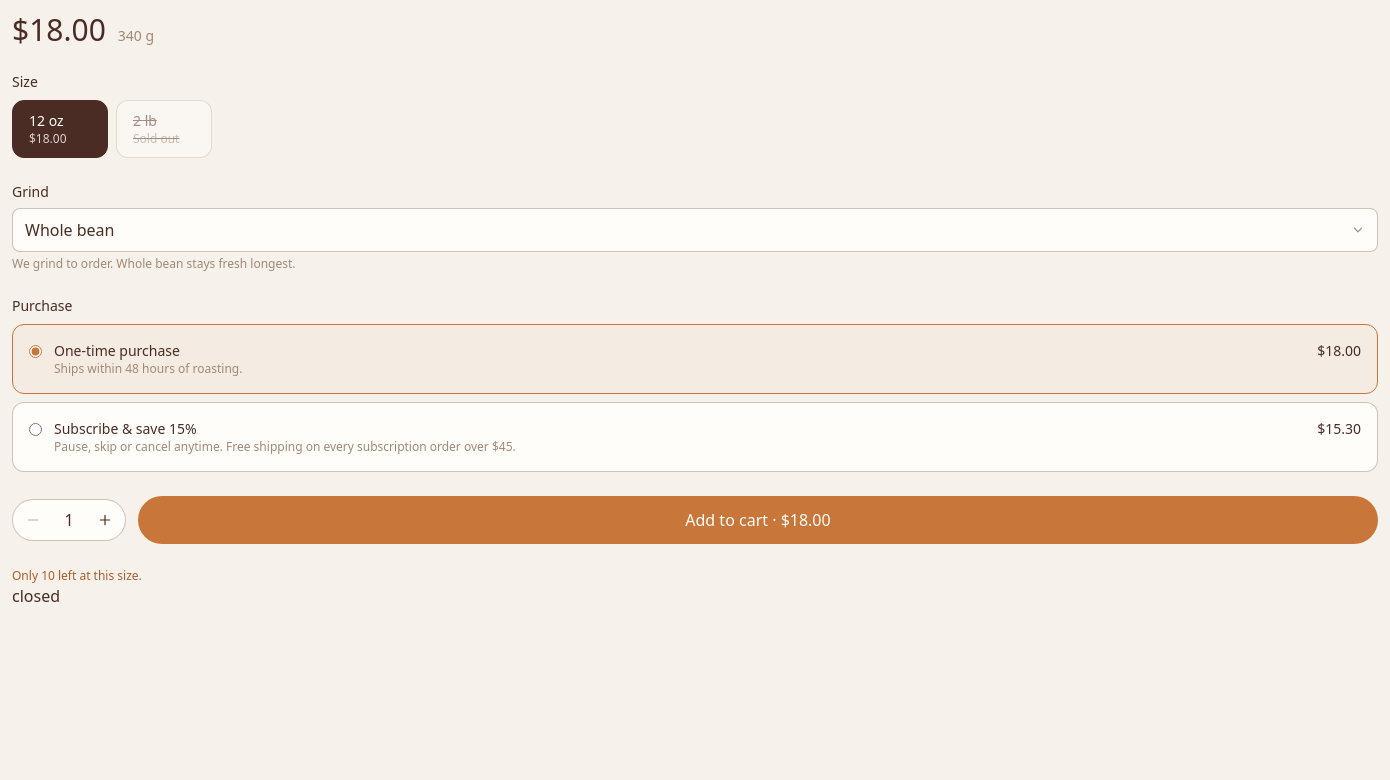
Scenario: AddToCartForm › submits the selected variant, tracks add_to_cart, and opens the drawer
Expected: the text with test id "drawer-state" reads "closed", [12,585,60,607]
Click the button "Add to cart · $18.00" at (758, 520), box [138,496,1378,544]
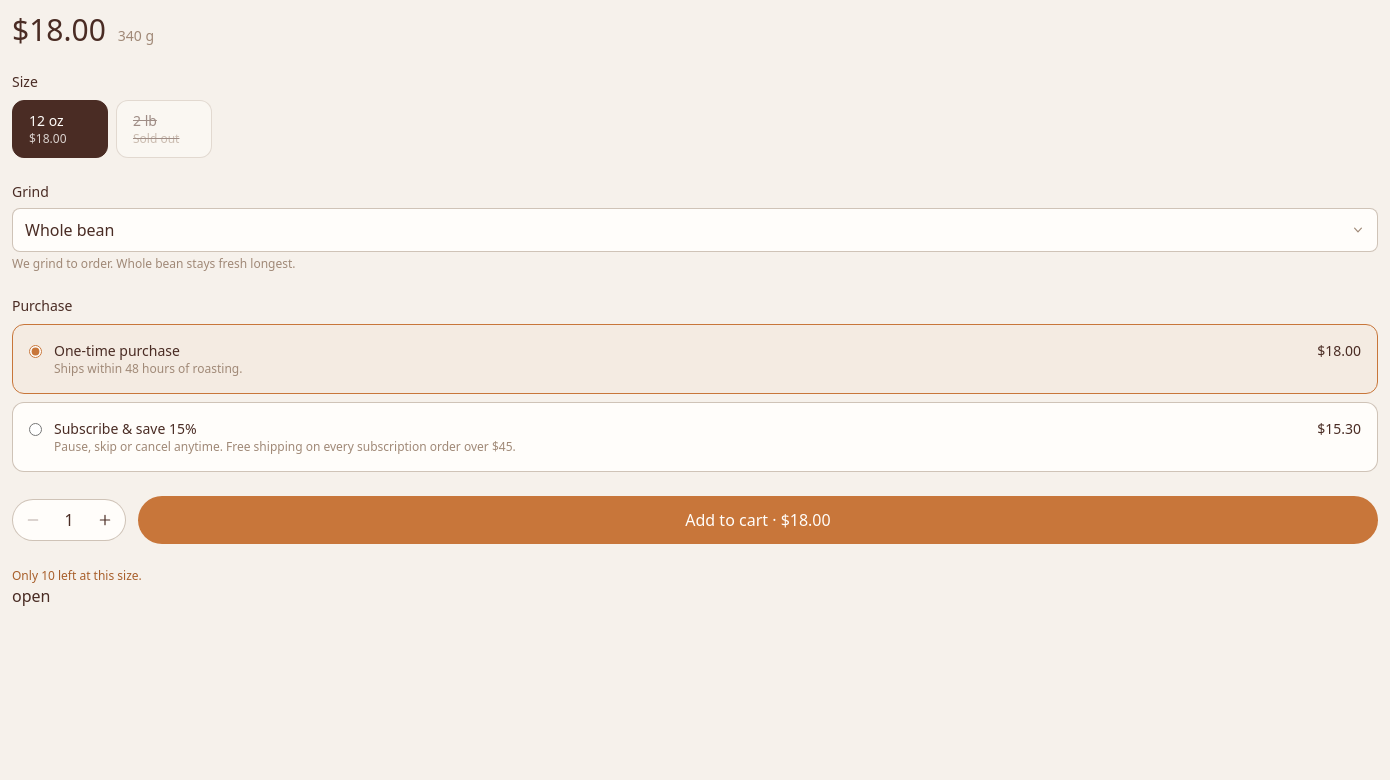
Expected: the text with test id "drawer-state" reads "open", [12,585,50,607]
